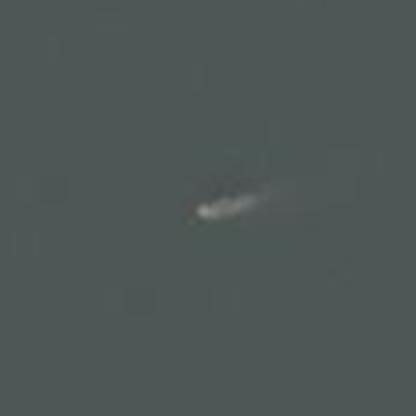ship: (184, 180, 263, 229)
